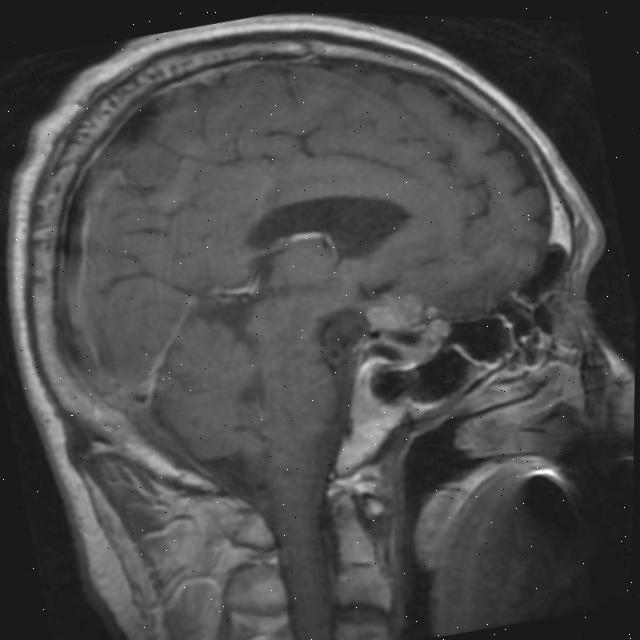Pituitary: (357, 277, 461, 381)
